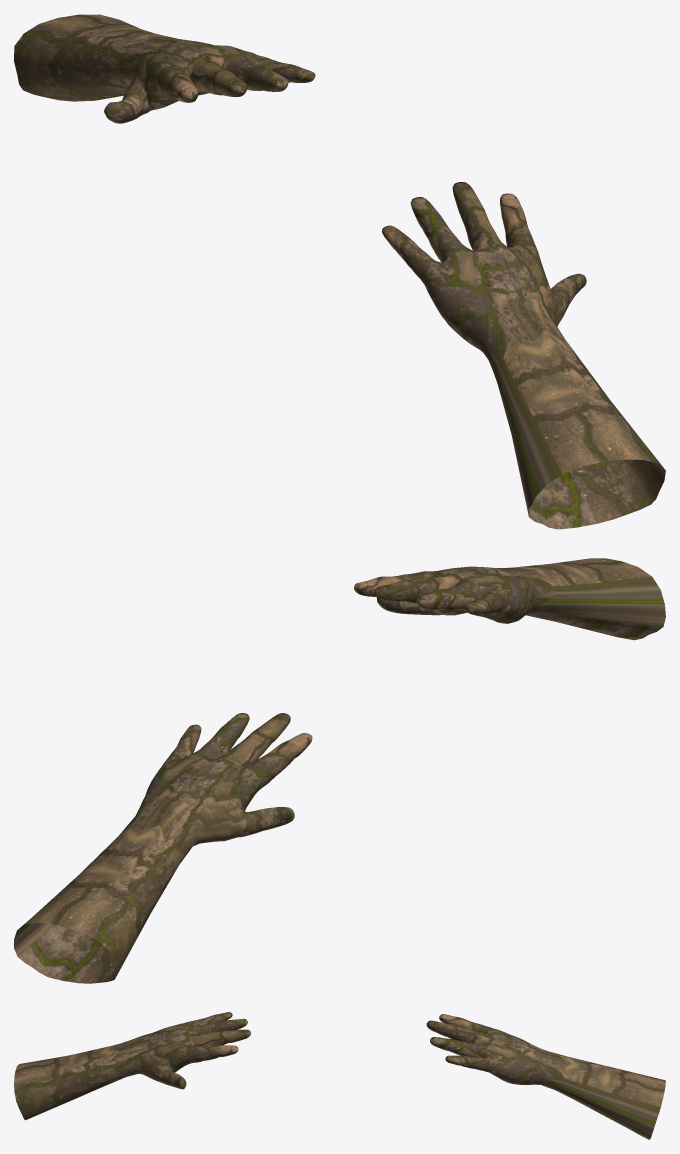
The model's file is hands_000019.obj.
The picture shows the model from 3 angles, top to bottom: view 1: azimuth 30°, elevation 25°; view 2: azimuth 150°, elevation 25°; view 3: azimuth 270°, elevation 25°; orthographic projection. The views are drawn at different scales.
Visible parts, largest first — view 1: hand.001_Mesh.001, hand_Mesh; view 2: hand_Mesh, hand.001_Mesh.001; view 3: hand_Mesh, hand.001_Mesh.001.
Part boxes in pixels (bbox=[...]): hand.001_Mesh.001: bbox=[382, 182, 665, 529]; hand_Mesh: bbox=[14, 14, 315, 123]; hand_Mesh: bbox=[14, 713, 312, 983]; hand.001_Mesh.001: bbox=[354, 558, 665, 640]; hand_Mesh: bbox=[426, 1014, 665, 1139]; hand.001_Mesh.001: bbox=[14, 1012, 250, 1120].
Size of the model in its own units: 1.58 by 1.45 by 8.31.
1 material, 1 textured.
